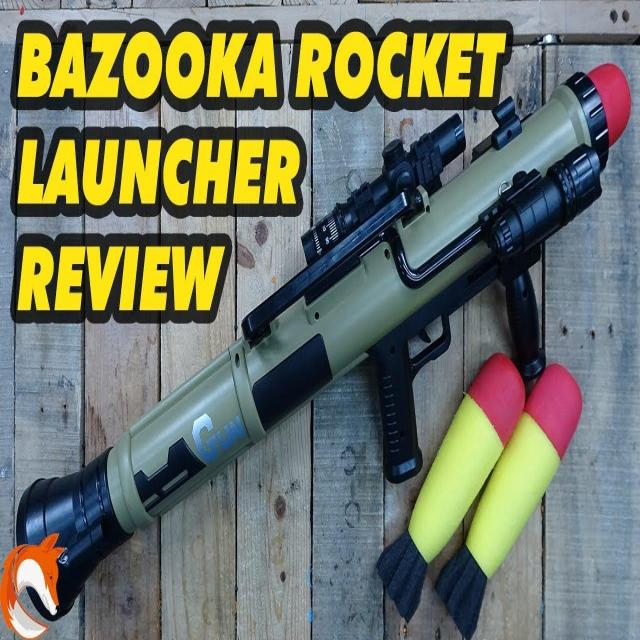weapon: (29, 52, 631, 618)
